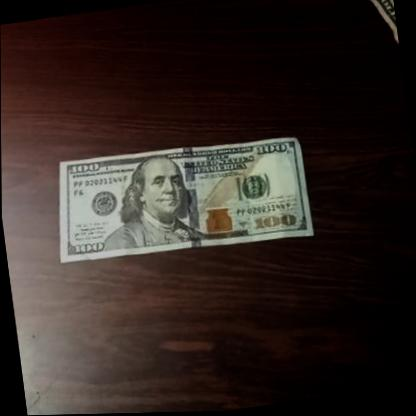one_hundred-front: (49, 125, 312, 275)
